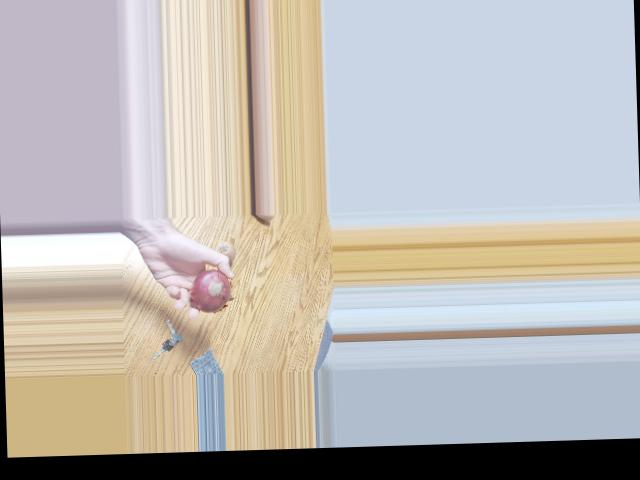onion: (208, 233, 236, 260)
